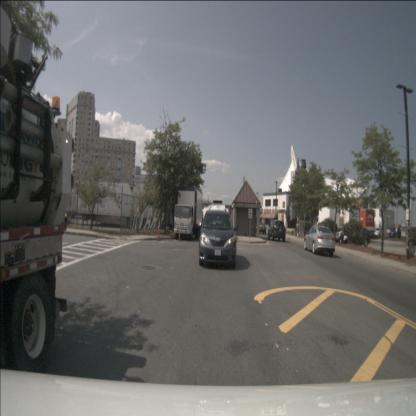cone: (157, 220, 161, 241), (178, 221, 181, 242)
